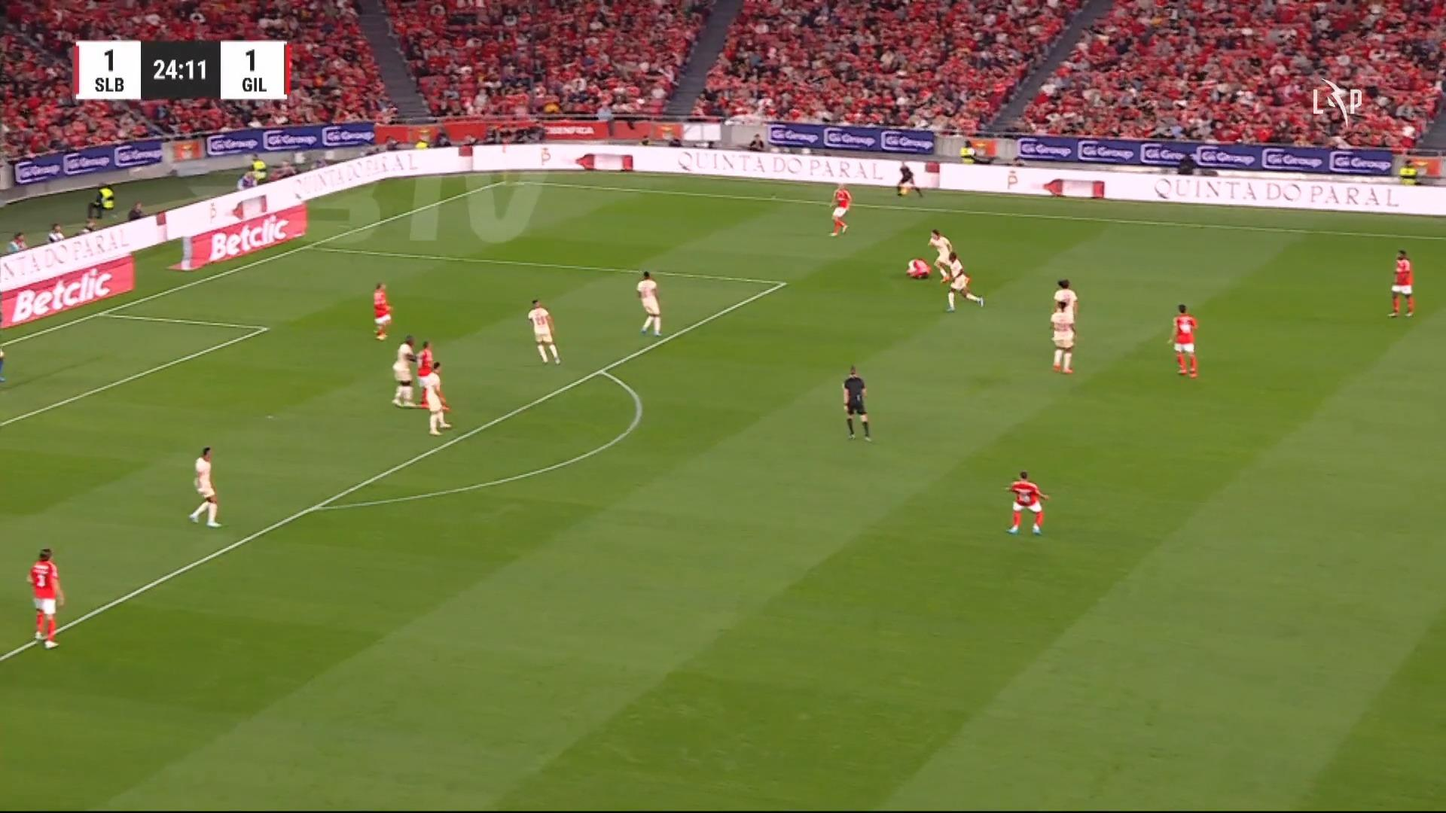player: (26, 547, 65, 649), (188, 446, 223, 528), (1005, 470, 1049, 535), (942, 251, 984, 312), (419, 361, 452, 436), (526, 298, 561, 365), (1167, 303, 1198, 378), (1049, 297, 1076, 374), (392, 336, 419, 407), (1387, 248, 1414, 317), (636, 270, 662, 336), (927, 228, 954, 283), (415, 340, 435, 406), (828, 182, 852, 236), (371, 282, 392, 340), (1053, 278, 1078, 325), (905, 256, 933, 279)
referee: (841, 365, 872, 441), (895, 160, 923, 197)
